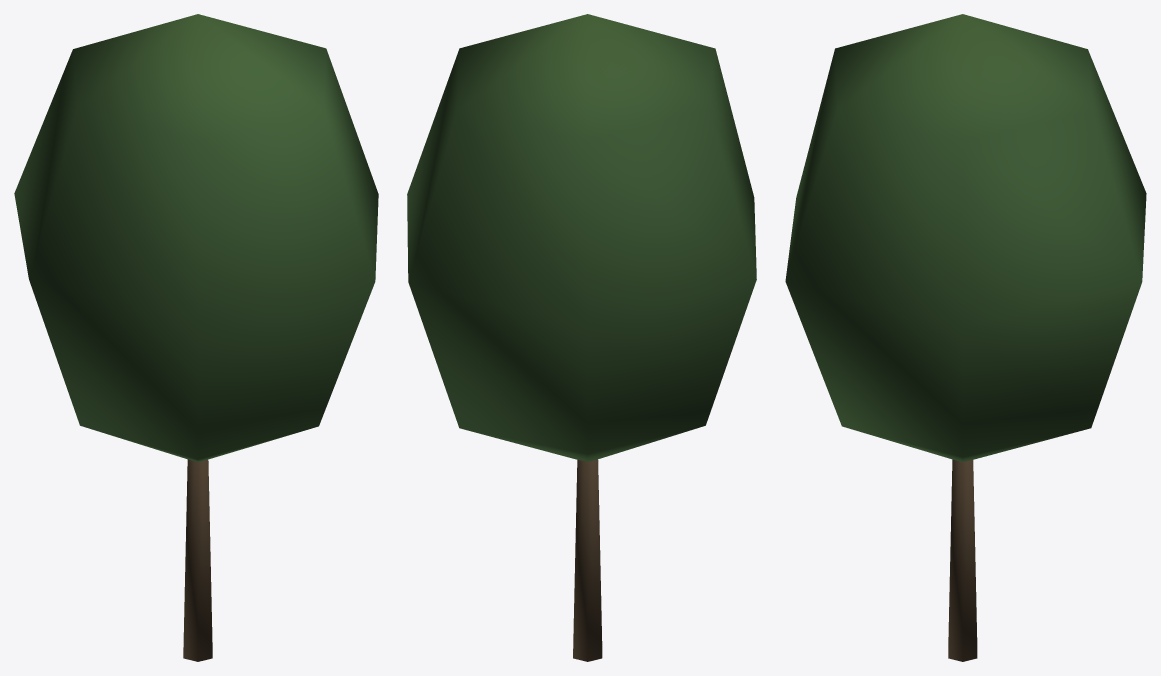
Rendered from tree_lod1.glb.
The picture shows the model from 3 angles, left to right: view 1: azimuth 30°, elevation 25°; view 2: azimuth 150°, elevation 25°; view 3: azimuth 270°, elevation 25°; orthographic projection.
Visible parts, largest first — view 1: SEU_TREE_GENERIC_LOD1; view 2: SEU_TREE_GENERIC_LOD1; view 3: SEU_TREE_GENERIC_LOD1.
Part boxes in pixels (left/top/right/bottom): SEU_TREE_GENERIC_LOD1: left=14, top=14, right=378, bottom=661; SEU_TREE_GENERIC_LOD1: left=407, top=14, right=756, bottom=661; SEU_TREE_GENERIC_LOD1: left=785, top=14, right=1146, bottom=661.
Size of the model in its own units: 5.71 by 10 by 5.11.
